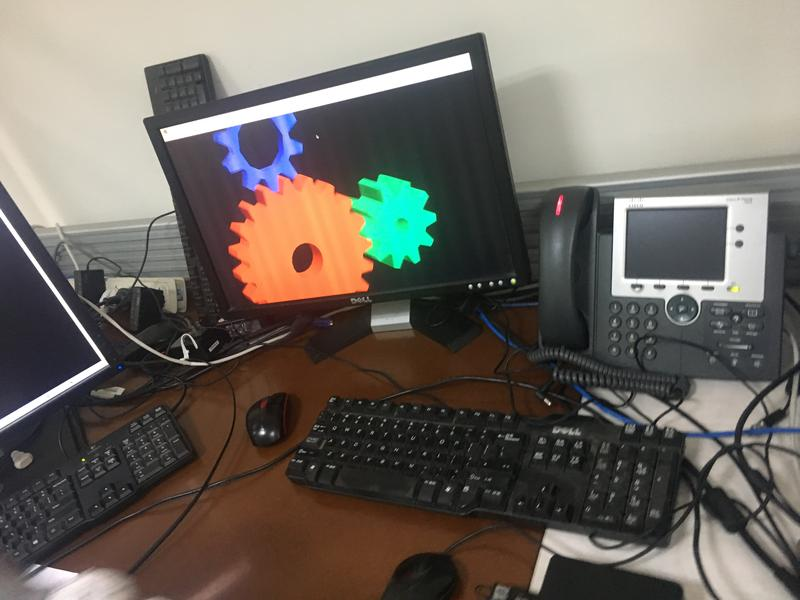glxgears_pass: (154, 78, 496, 301)
